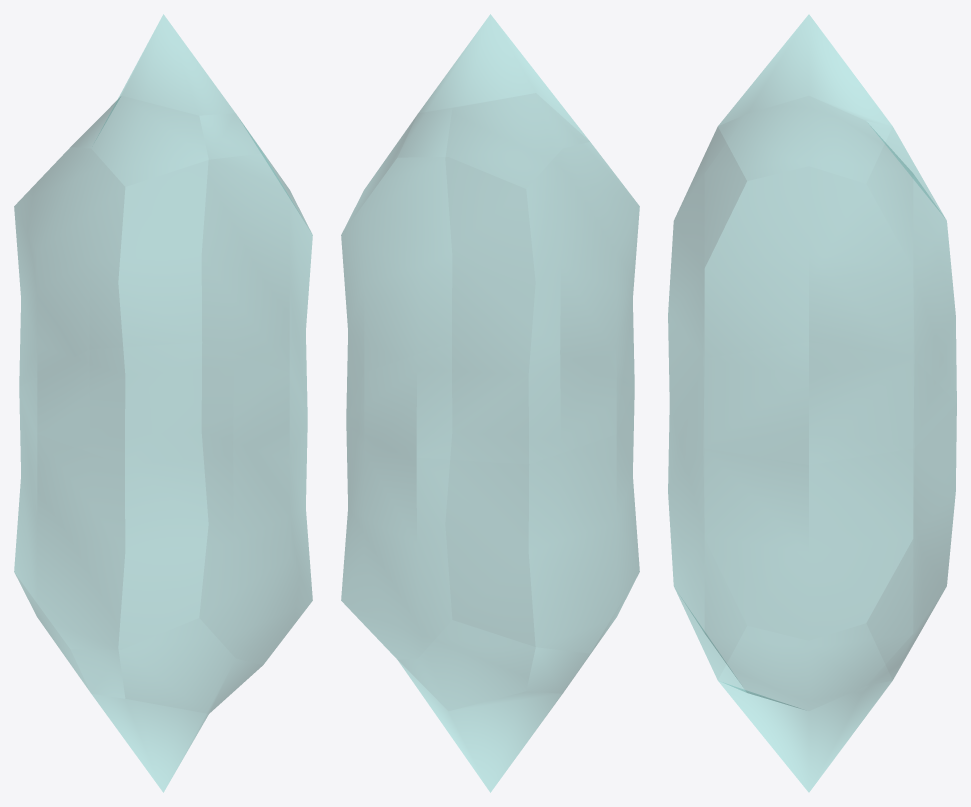
Rendered from crystal.fbx.
3 views of the same model, side by side, from view 1: azimuth 30°, elevation 25°; view 2: azimuth 150°, elevation 25°; view 3: azimuth 270°, elevation 25° (orthographic).
Parts seen in each view (by area): view 1: pCube1; view 2: pCube1; view 3: pCube1.
Part boxes in pixels (left/top/right/bottom): pCube1: left=14, top=14, right=312, bottom=792; pCube1: left=341, top=14, right=639, bottom=792; pCube1: left=668, top=14, right=956, bottom=792.
Size of the model in its own units: 17.77 by 52.32 by 17.59.
